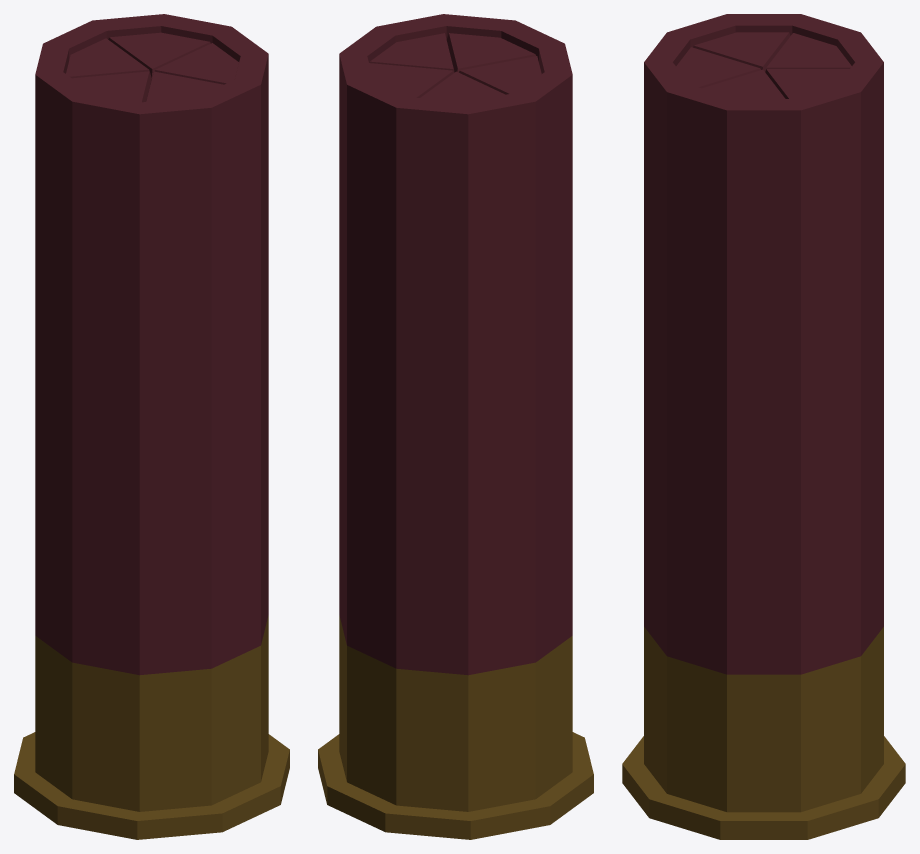
Rendered from Shotgun Shell.fbx.
The picture shows the model from 3 angles, left to right: view 1: azimuth 30°, elevation 25°; view 2: azimuth 150°, elevation 25°; view 3: azimuth 270°, elevation 25°; orthographic projection.
Parts seen in each view (by area): view 1: Shotgun Shell; view 2: Shotgun Shell; view 3: Shotgun Shell.
Boxes of the visible parts, left/top/right/bottom form: Shotgun Shell: left=14, top=14, right=289, bottom=839; Shotgun Shell: left=318, top=14, right=593, bottom=839; Shotgun Shell: left=622, top=14, right=905, bottom=839.
Size of the model in its own units: 2.84 by 8.36 by 2.98.
